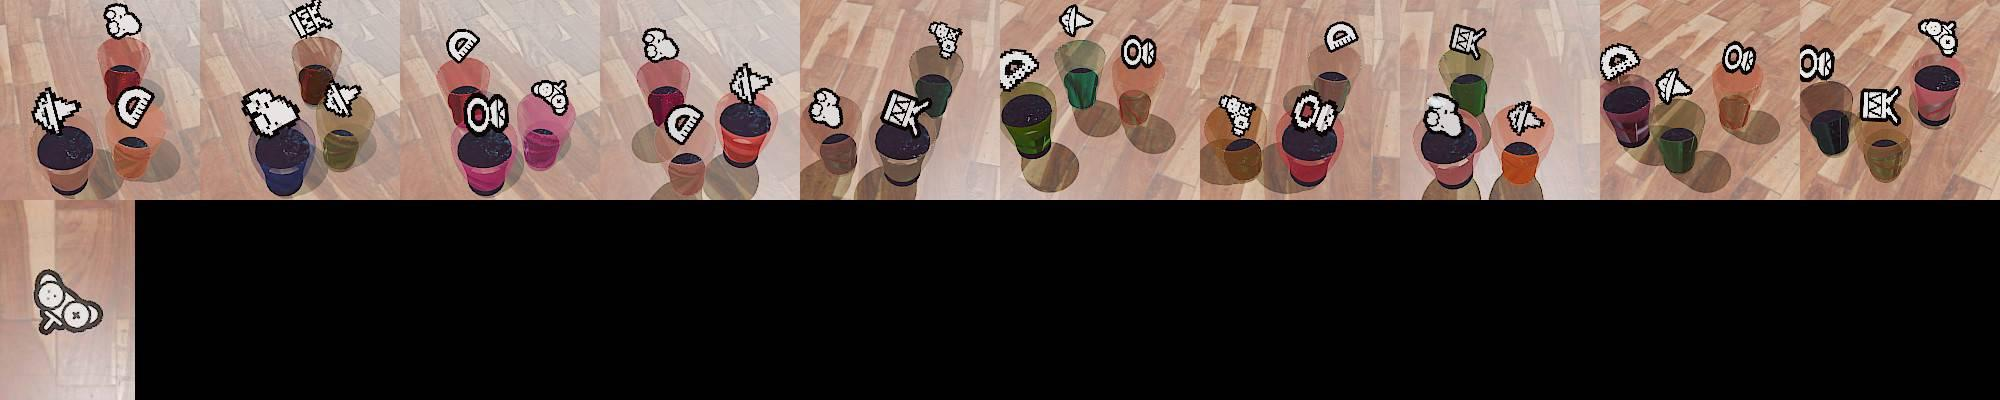icon: (33, 267, 105, 335), (240, 87, 301, 138), (880, 87, 932, 138), (31, 87, 80, 134), (1290, 89, 1339, 134), (729, 62, 774, 106), (113, 85, 157, 130), (465, 91, 509, 135), (1422, 92, 1465, 137), (664, 104, 706, 147), (997, 48, 1038, 92), (289, 1, 333, 41), (1217, 93, 1256, 138), (1599, 43, 1641, 84), (1917, 18, 1960, 58), (1859, 86, 1903, 124), (1654, 67, 1695, 106), (531, 76, 570, 116), (1797, 45, 1836, 84), (323, 79, 362, 117), (808, 87, 844, 128), (103, 3, 143, 39), (1506, 99, 1545, 135), (642, 27, 680, 63), (928, 20, 962, 59), (1058, 3, 1095, 38), (1449, 23, 1486, 58), (446, 28, 481, 65), (1722, 40, 1757, 75), (1323, 21, 1358, 54), (1123, 36, 1154, 68)
